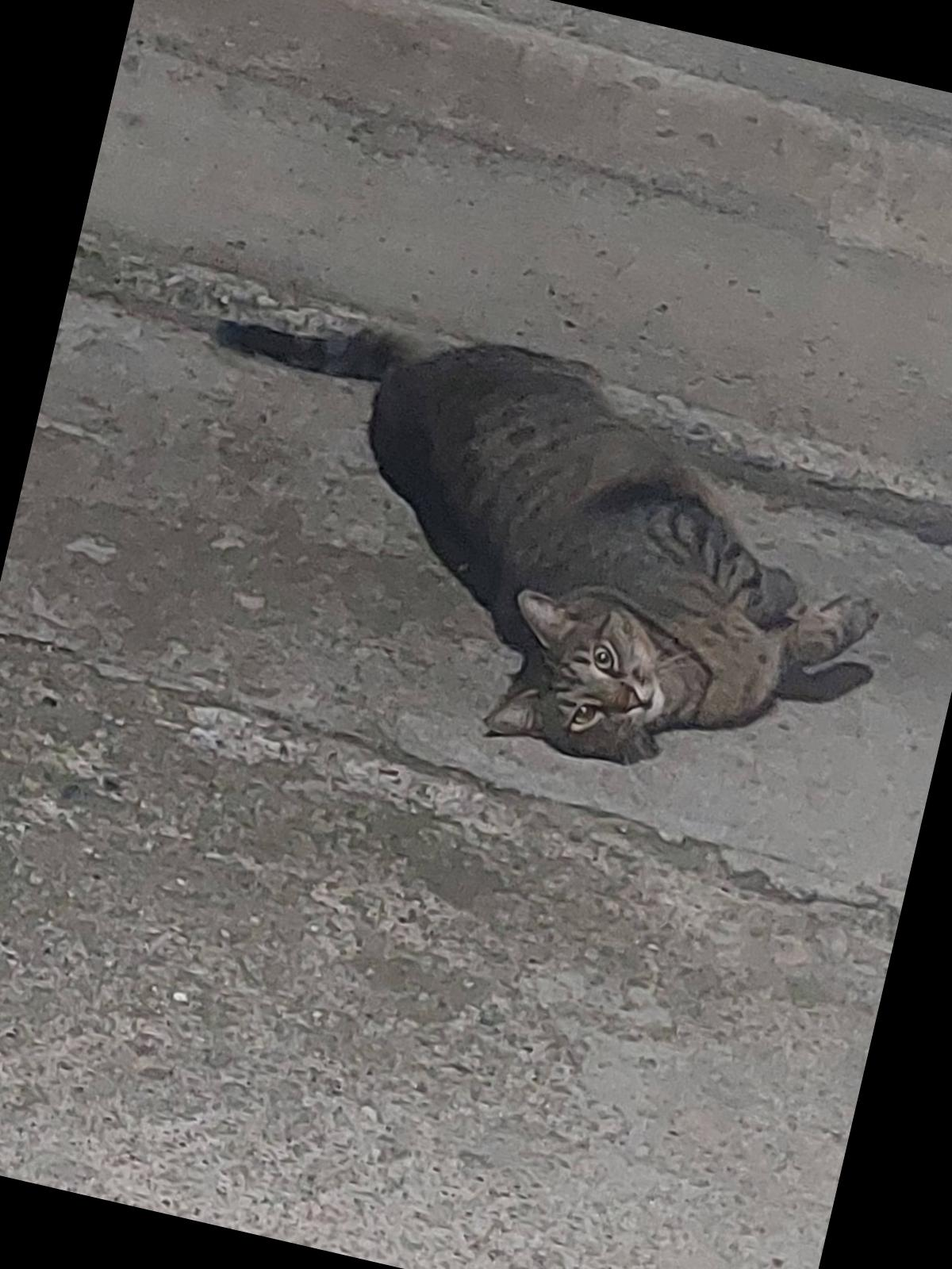macka: (138, 279, 917, 815)
